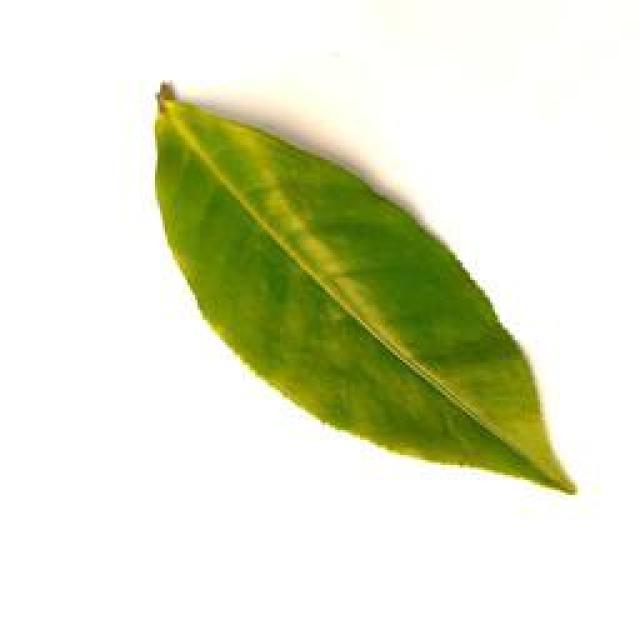Healthy: (150, 83, 586, 510)
